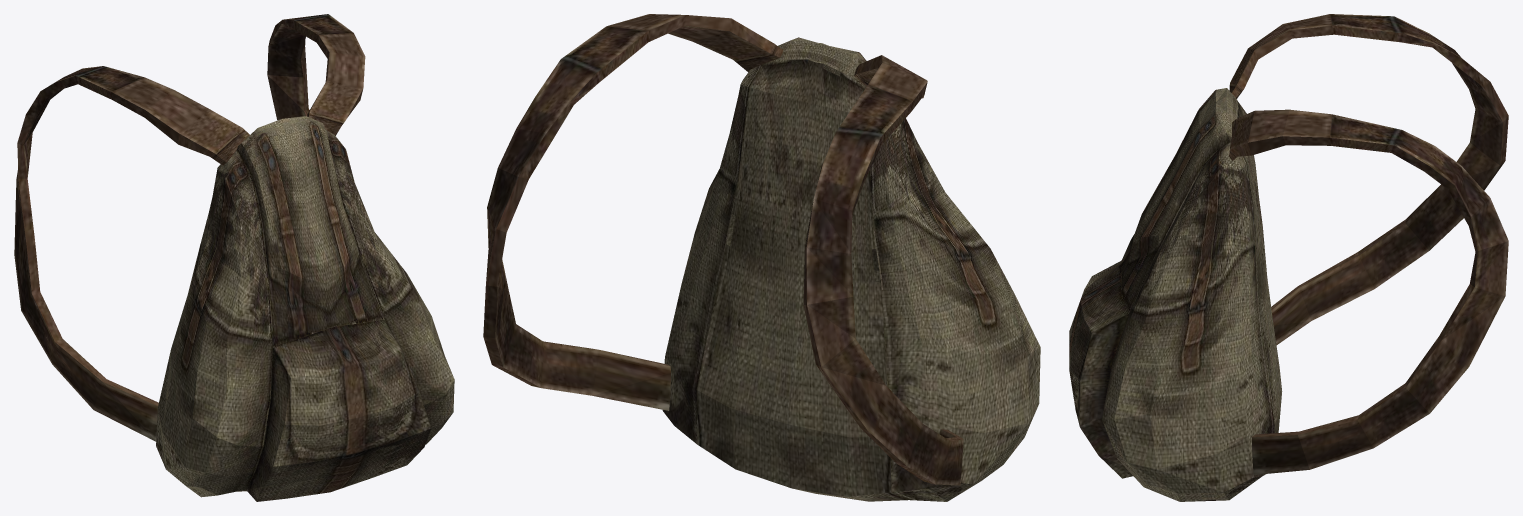
The model's file is backpack2.fbx.
The picture shows the model from 3 angles, left to right: view 1: azimuth 30°, elevation 25°; view 2: azimuth 150°, elevation 25°; view 3: azimuth 270°, elevation 25°; orthographic projection. The views are drawn at different scales.
Parts seen in each view (by area): view 1: Object_1.002; view 2: Object_1.002; view 3: Object_1.002.
Boxes of the visible parts, <box> form: Object_1.002: <box>14,14,454,501</box>; Object_1.002: <box>483,14,1040,501</box>; Object_1.002: <box>1069,14,1508,501</box>.
Bounding box in the file's own units: 43.17 × 47.72 × 47.67.
Materials: 1 (1 with a texture image).
